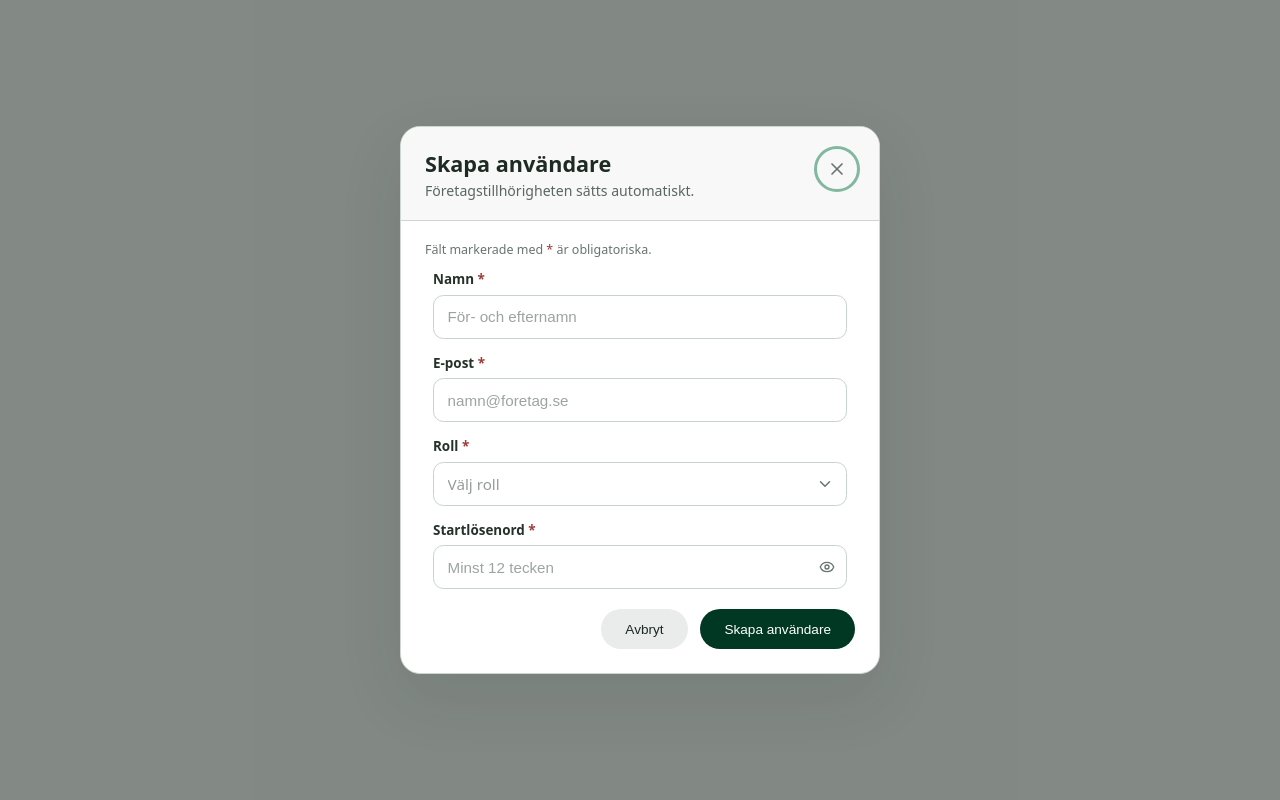
Scenario: CreateUserModal › clears a field error once the user edits that field
Click the button "Skapa användare". click: (778, 629)
box: [700,609,855,649]
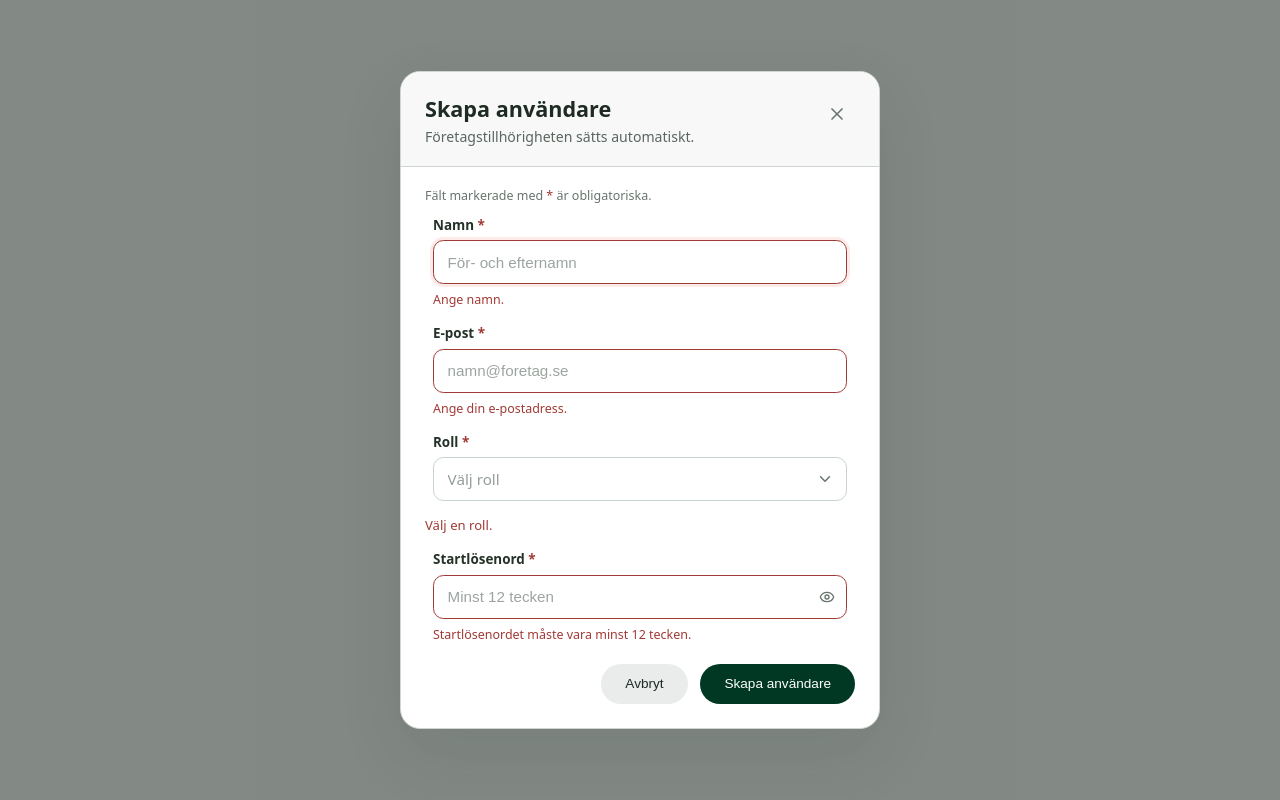
Type "K" into the field labelled "Namn *". click: (640, 262)
box: [433,240,847,284]
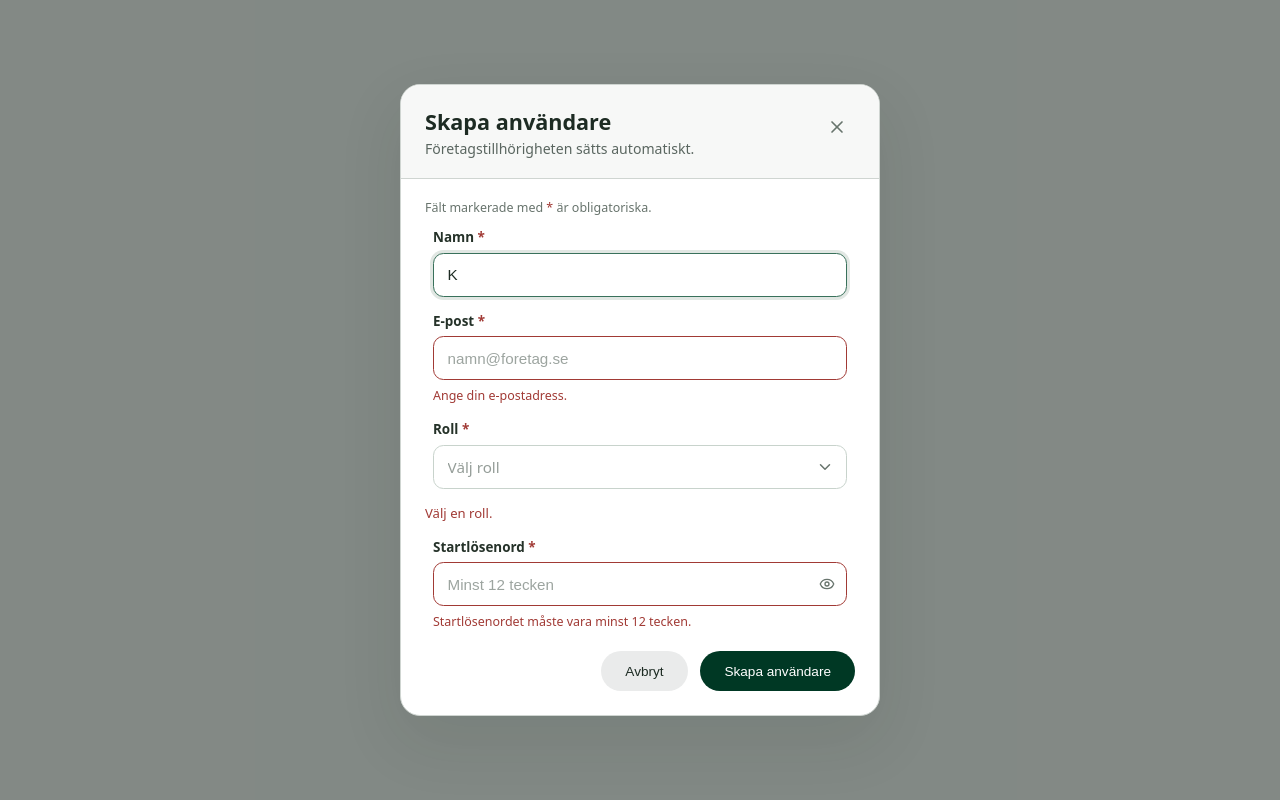
Result: the text "Ange namn." is gone
